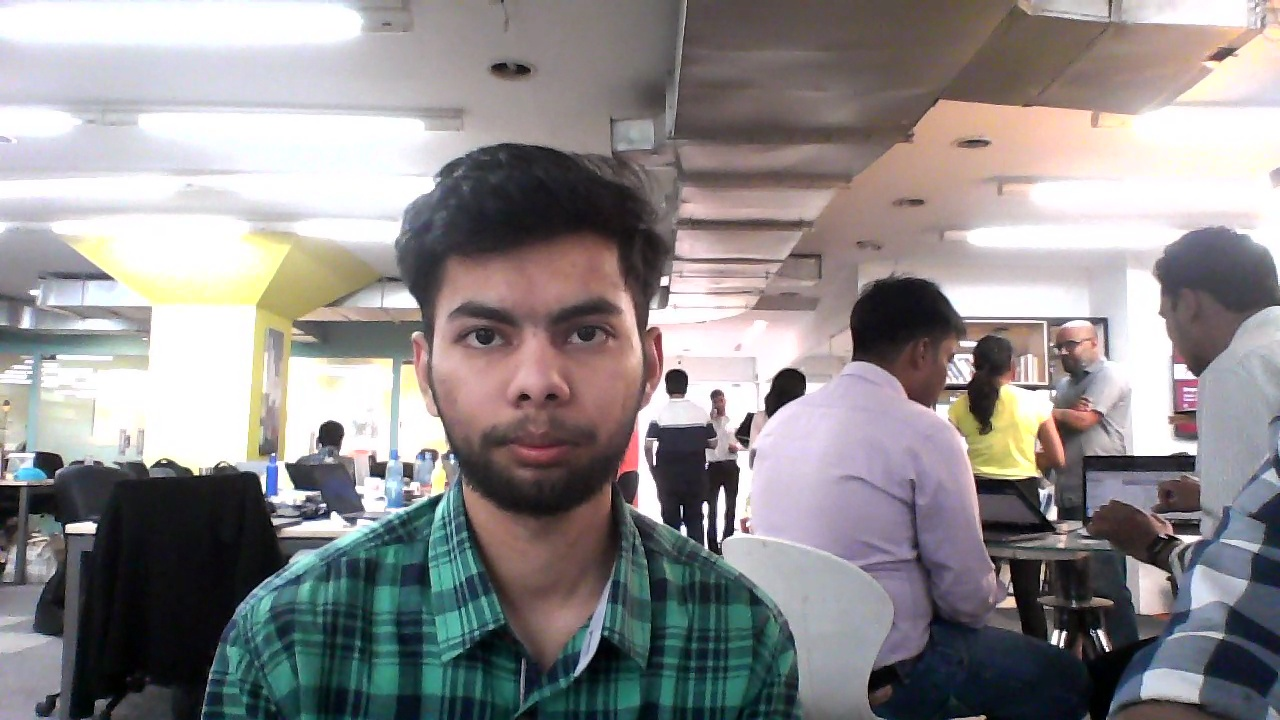open: (399, 146, 664, 501)
